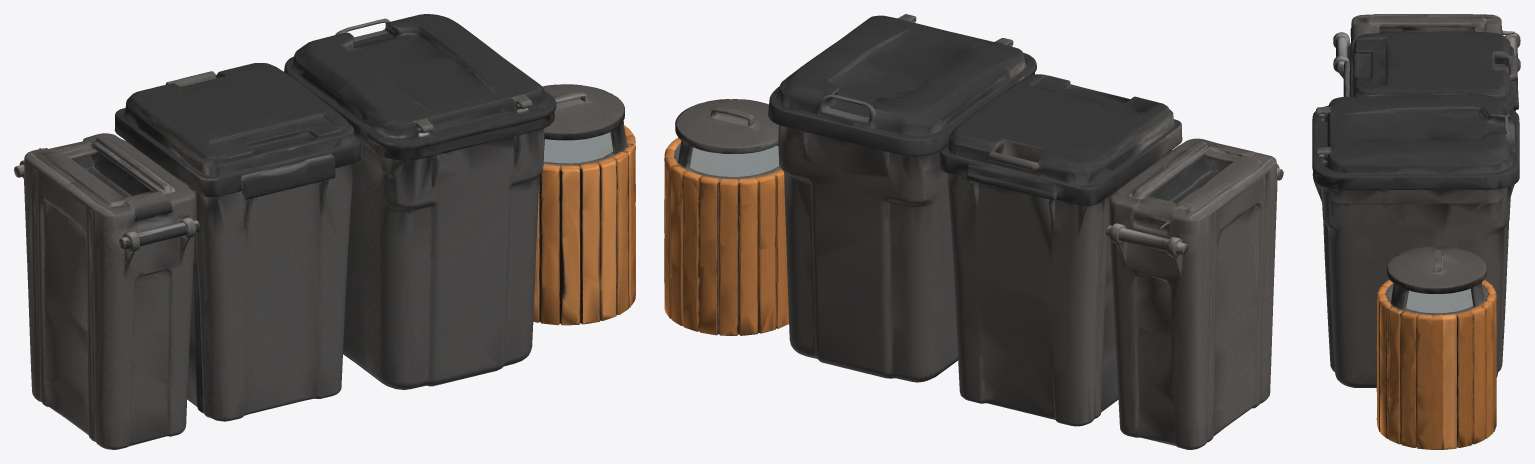
The model's file is bins.glb.
3 renders of one model, left to right at view 1: azimuth 30°, elevation 25°; view 2: azimuth 150°, elevation 25°; view 3: azimuth 270°, elevation 25°, orthographic. The views are drawn at different scales.
Visible parts, largest first — view 1: mesh_node; view 2: mesh_node; view 3: mesh_node.
Part boxes in pixels (x1,y1,x2,y2): mesh_node: [14, 14, 635, 449]; mesh_node: [664, 14, 1283, 449]; mesh_node: [1312, 14, 1520, 449].
Bounding box in the file's own units: 1.9 × 0.9016 × 0.7134.
Materials: 1 (1 with a texture image).
